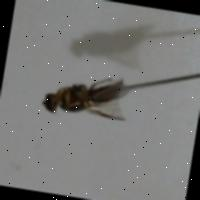Oriental-fruit-fly: (24, 60, 134, 132)
